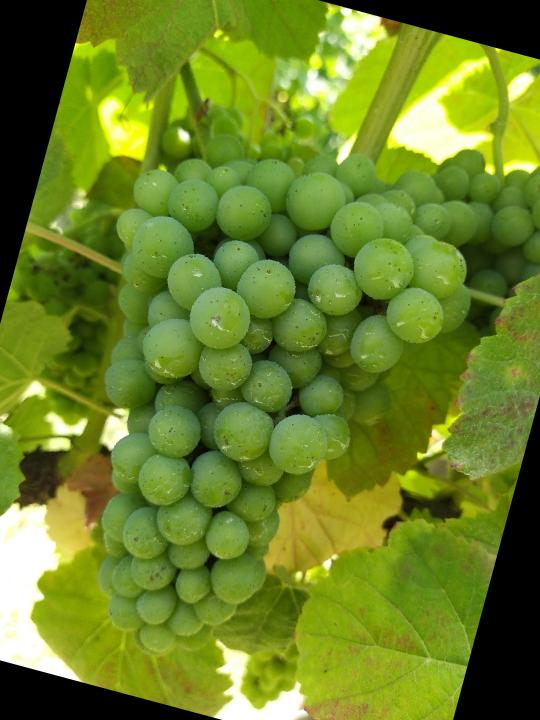grape: (7, 121, 498, 713)
